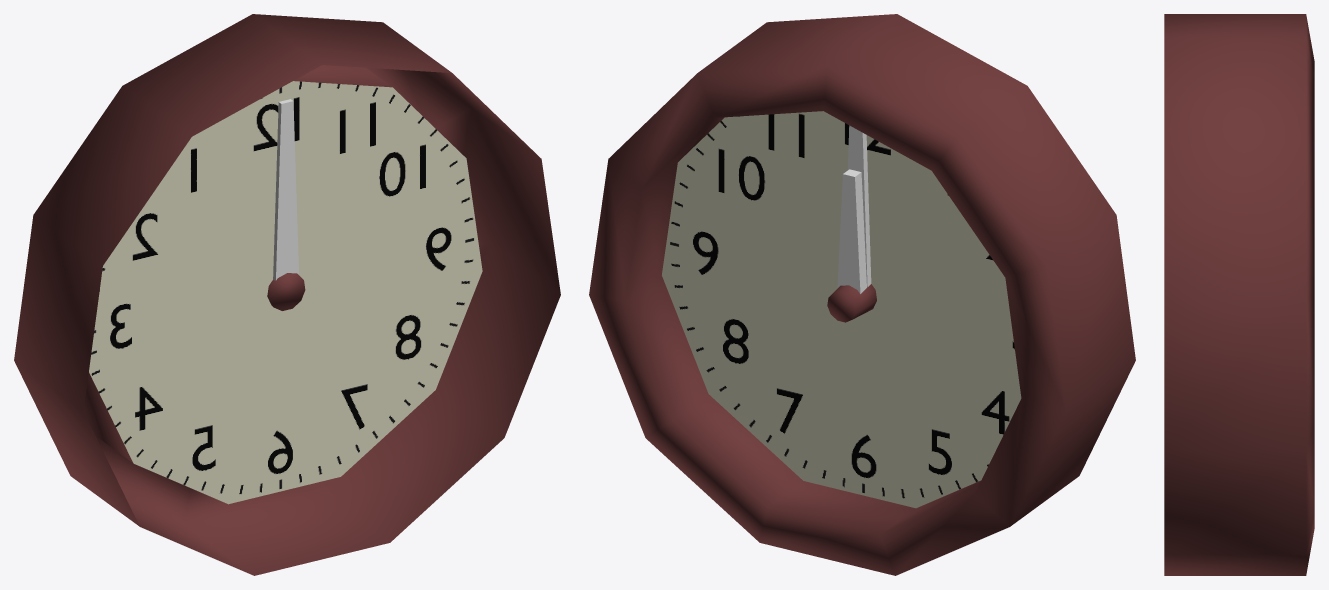
The model's file is Clock.fbx.
The picture shows the model from 3 angles, left to right: view 1: azimuth 30°, elevation 25°; view 2: azimuth 150°, elevation 25°; view 3: azimuth 270°, elevation 25°; orthographic projection.
Parts seen in each view (by area): view 1: ClockFace, Clock, ClockMinuteHand; view 2: Clock, ClockFace, ClockHourHand, ClockMinuteHand; view 3: Clock.
Boxes of the visible parts, box(x1,y1,x2,y2) form: ClockFace: box(89, 81, 482, 504); Clock: box(14, 14, 560, 575); ClockMinuteHand: box(273, 99, 298, 280); Clock: box(589, 14, 1135, 575); ClockFace: box(662, 111, 1021, 508); ClockHourHand: box(837, 169, 866, 293); ClockMinuteHand: box(847, 125, 871, 287); Clock: box(1164, 14, 1314, 575).
Size of the model in its own units: 79.19 by 78.38 by 21.2.
1 material, 1 textured.
